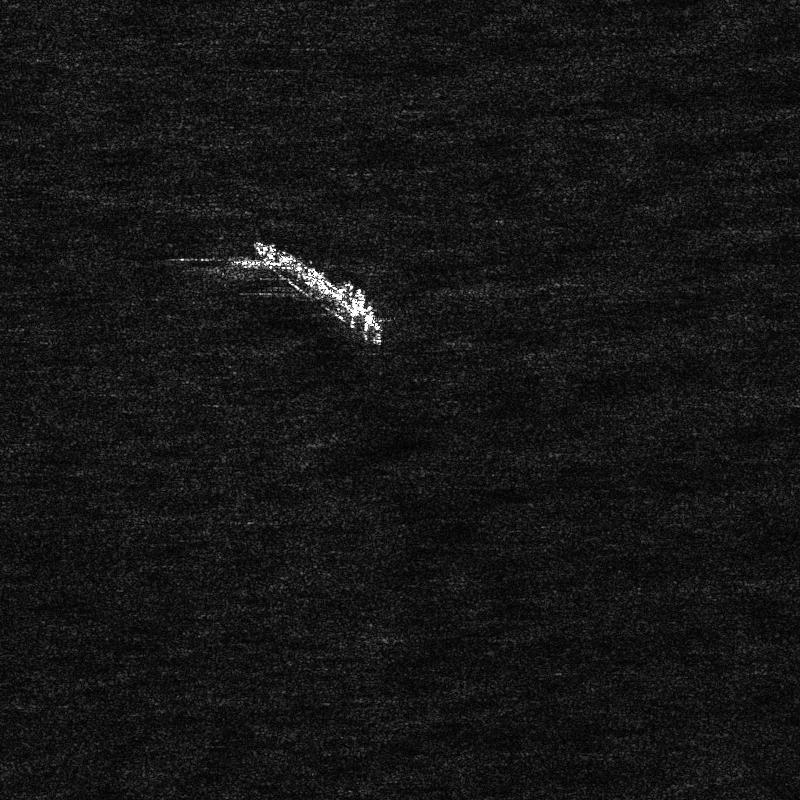ship: (254, 242, 382, 345)
